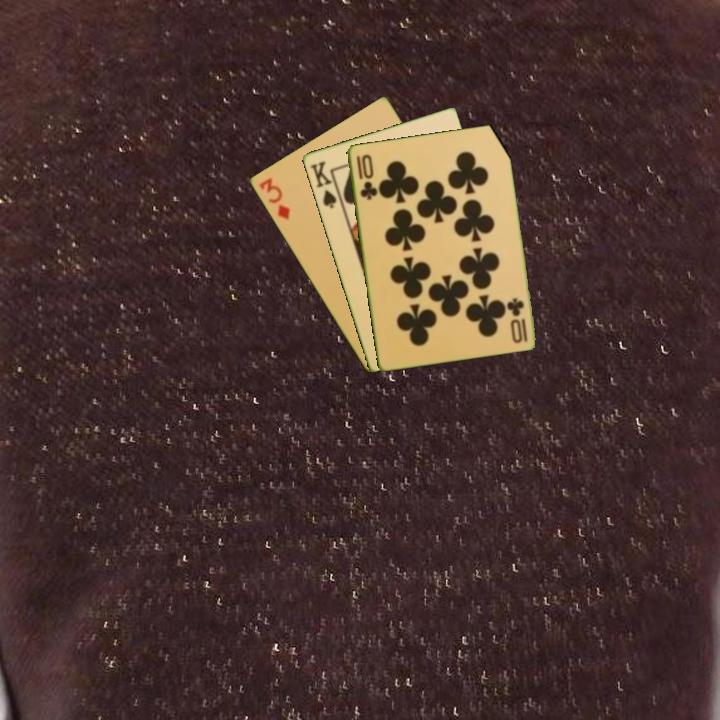10c: (352, 150, 379, 202), (504, 294, 530, 345)
3d: (255, 174, 293, 223)
Ks: (306, 157, 343, 211)
